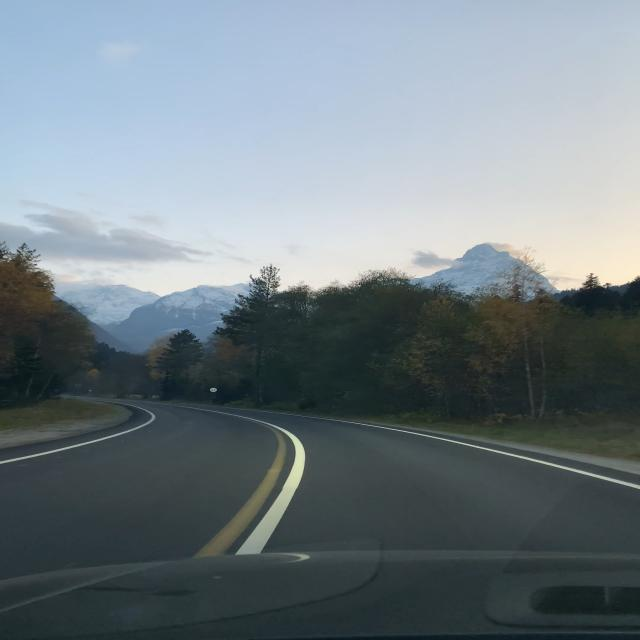asphalt: (0, 401, 640, 580)
